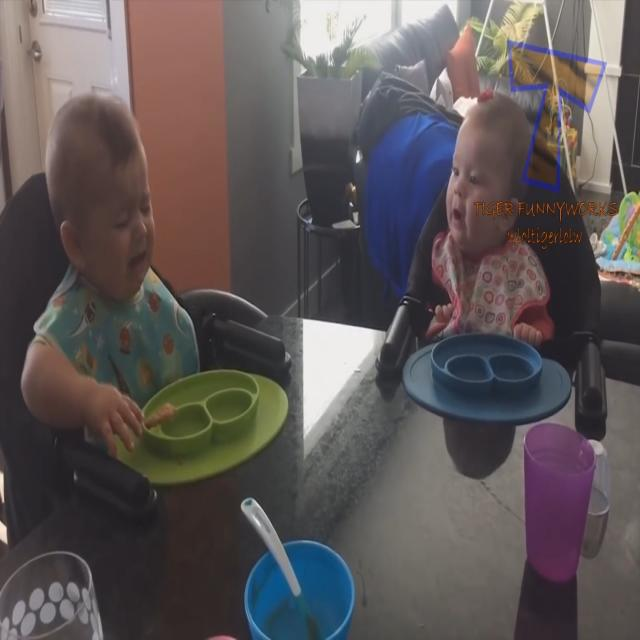dangerous: (44, 88, 191, 465)
safe: (441, 73, 534, 341)
